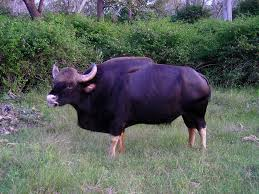bison: (41, 54, 212, 159)
